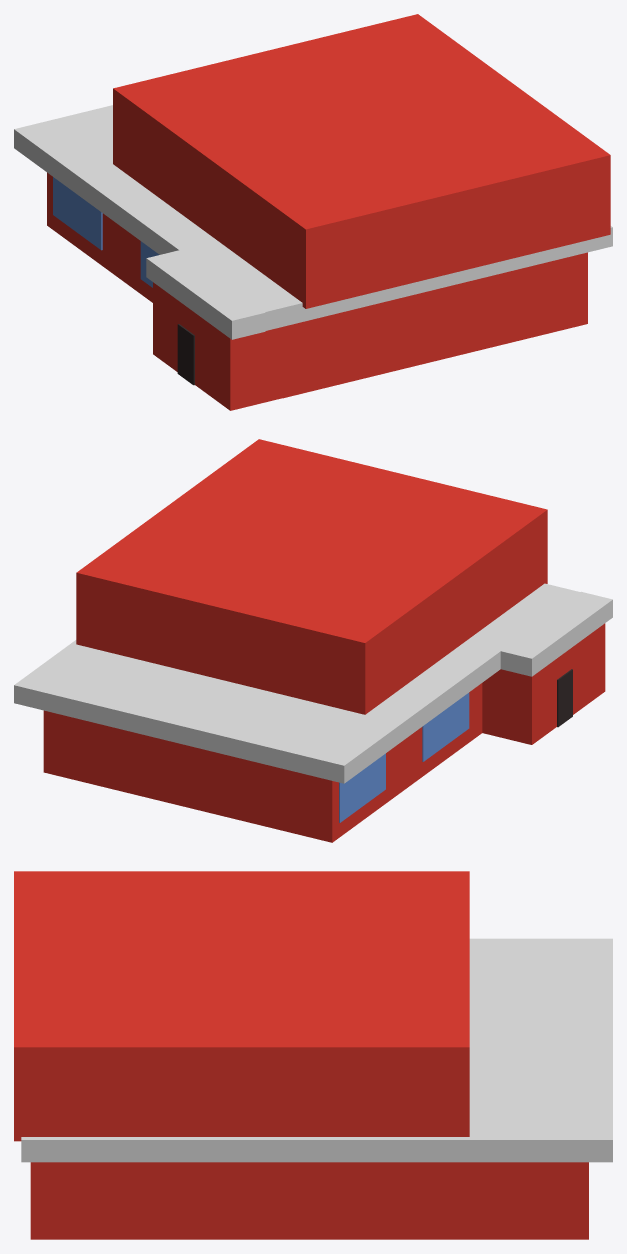
Rendered from House_Red.fbx.
3 renders of one model, top to bottom at view 1: azimuth 30°, elevation 25°; view 2: azimuth 150°, elevation 25°; view 3: azimuth 270°, elevation 25°, orthographic. The views are drawn at different scales.
Visible parts, largest first — view 1: Cube.009, Cube.005, Cube.007, Cube.006, Cube.008, Window_1.004, Door_1.002; view 2: Cube.009, Cube.007, Cube.005, Cube.006, Cube.008, Window_1.003, Window_1.004, Door_1.002; view 3: Cube.009, Cube.007, Cube.005.
Boxes of the visible parts, bbox=[...] form: Cube.009: bbox=[113, 14, 610, 308]; Cube.005: bbox=[47, 172, 587, 398]; Cube.007: bbox=[14, 105, 612, 330]; Cube.006: bbox=[153, 282, 282, 410]; Cube.008: bbox=[146, 250, 265, 339]; Window_1.004: bbox=[53, 177, 102, 250]; Door_1.002: bbox=[177, 324, 194, 385]; Cube.009: bbox=[76, 439, 547, 714]; Cube.007: bbox=[14, 583, 579, 783]; Cube.005: bbox=[43, 683, 482, 842]; Cube.006: bbox=[482, 623, 605, 744]; Cube.008: bbox=[500, 591, 612, 676]; Window_1.003: bbox=[422, 692, 469, 761]; Window_1.004: bbox=[339, 753, 385, 822]; Door_1.002: bbox=[557, 669, 572, 727]; Cube.009: bbox=[14, 871, 469, 1141]; Cube.007: bbox=[21, 938, 612, 1162]; Cube.005: bbox=[30, 1162, 588, 1239].
Bounding box in the file's own units: 5049 × 2152 × 5805.
